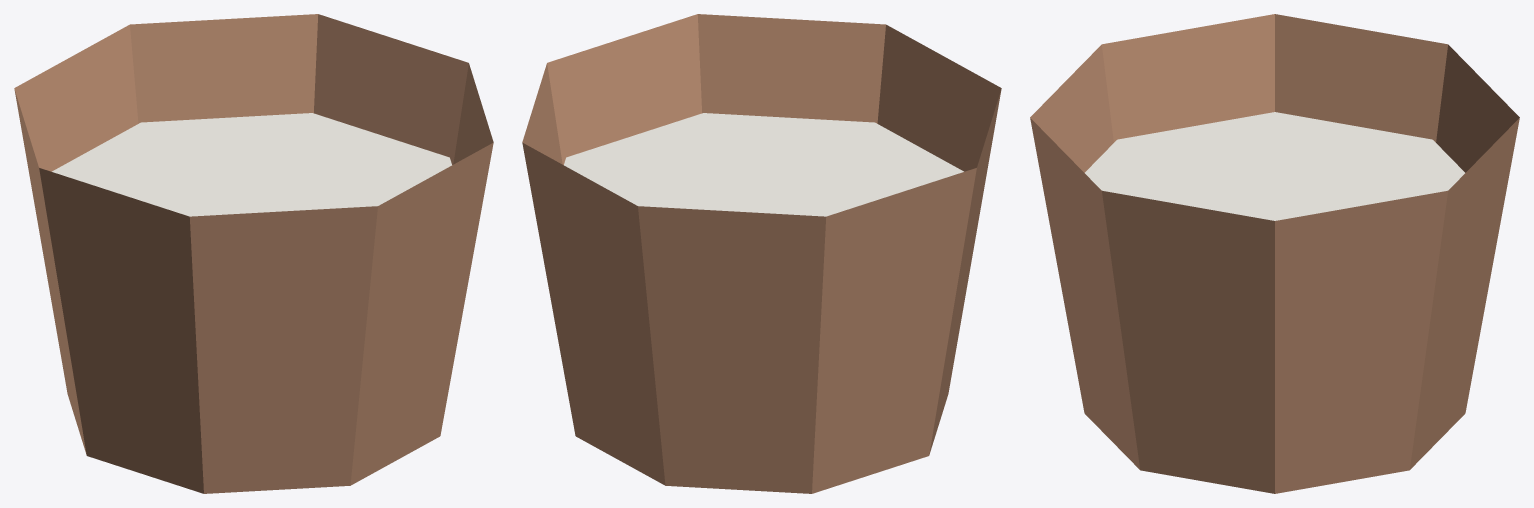
File: prop-chalk-pot-cl1.fbx
The picture shows the model from 3 angles, left to right: view 1: azimuth 30°, elevation 25°; view 2: azimuth 150°, elevation 25°; view 3: azimuth 270°, elevation 25°; orthographic projection.
Visible parts, largest first — view 1: prop-chalk-pot-cl1; view 2: prop-chalk-pot-cl1; view 3: prop-chalk-pot-cl1.
Part boxes in pixels (x1,y1,x2,y2): prop-chalk-pot-cl1: (14,14,493,493); prop-chalk-pot-cl1: (522,14,1001,493); prop-chalk-pot-cl1: (1030,14,1519,493).
Bounding box in the file's own units: 9 × 6 × 9.
